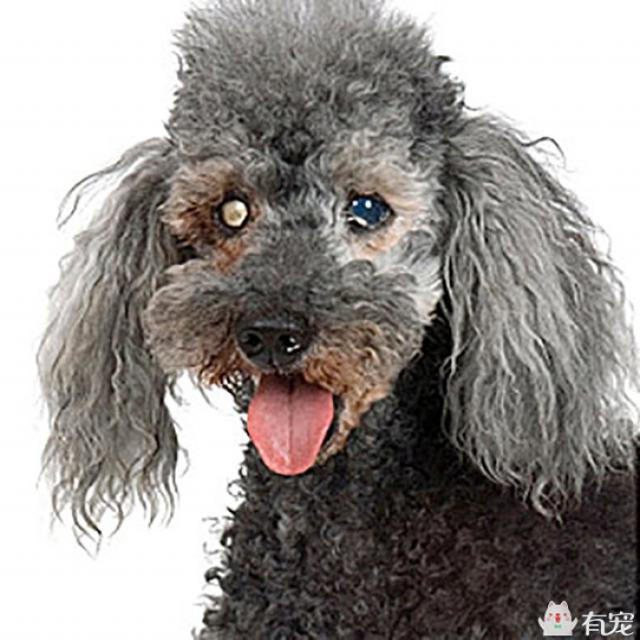eye: (342, 187, 397, 236), (204, 190, 256, 241)
